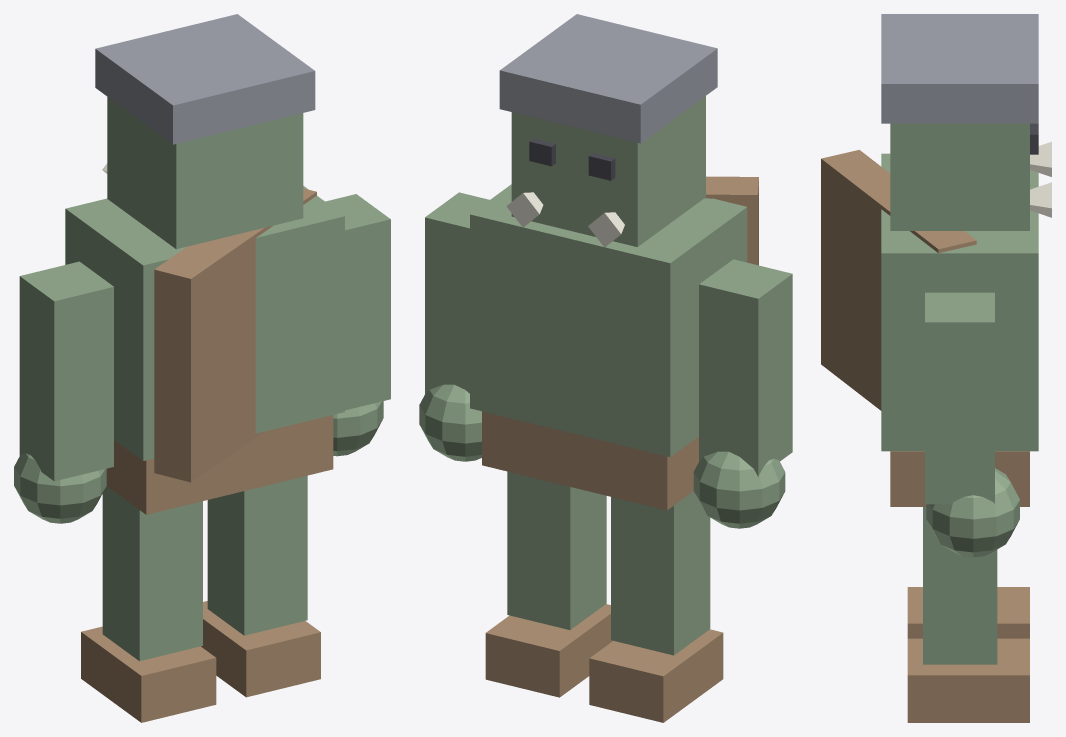
Rendered from mob_orc.glb.
3 renders of one model, left to right at view 1: azimuth 30°, elevation 25°; view 2: azimuth 150°, elevation 25°; view 3: azimuth 270°, elevation 25°, orthographic. The views are drawn at different scales.
Parts seen in each view (by area): view 1: mob_orc_05, mob_orc_06, mob_orc_11, mob_orc_16, mob_orc_07, mob_orc_02, mob_orc_03, mob_orc_04, mob_orc_08, mob_orc_00, mob_orc_01, mob_orc_09 (+1 smaller); view 2: mob_orc_05, mob_orc_16, mob_orc_07, mob_orc_11, mob_orc_02, mob_orc_03, mob_orc_04, mob_orc_08, mob_orc_00, mob_orc_01, mob_orc_09, mob_orc_10 (+5 smaller); view 3: mob_orc_05, mob_orc_16, mob_orc_06, mob_orc_11, mob_orc_08, mob_orc_03, mob_orc_01, mob_orc_10, mob_orc_04, mob_orc_00, mob_orc_15, mob_orc_14.
Boxes of the visible parts, bbox=[...] form: mob_orc_05: bbox=[65, 186, 344, 460]; mob_orc_06: bbox=[154, 188, 316, 482]; mob_orc_11: bbox=[107, 97, 303, 249]; mob_orc_16: bbox=[95, 14, 315, 144]; mob_orc_07: bbox=[19, 261, 113, 481]; mob_orc_02: bbox=[102, 486, 202, 661]; mob_orc_03: bbox=[207, 475, 307, 635]; mob_orc_04: bbox=[106, 415, 333, 514]; mob_orc_08: bbox=[325, 194, 390, 410]; mob_orc_00: bbox=[81, 626, 216, 722]; mob_orc_01: bbox=[201, 601, 320, 697]; mob_orc_09: bbox=[14, 453, 106, 523]; mob_orc_05: bbox=[470, 184, 747, 456]; mob_orc_16: bbox=[499, 14, 717, 143]; mob_orc_07: bbox=[699, 259, 792, 476]; mob_orc_11: bbox=[511, 96, 705, 246]; mob_orc_02: bbox=[611, 491, 710, 655]; mob_orc_03: bbox=[507, 471, 606, 629]; mob_orc_04: bbox=[482, 411, 698, 510]; mob_orc_08: bbox=[425, 192, 489, 395]; mob_orc_00: bbox=[589, 629, 723, 722]; mob_orc_01: bbox=[485, 604, 612, 697]; mob_orc_09: bbox=[693, 451, 785, 528]; mob_orc_10: bbox=[419, 384, 481, 461]; mob_orc_05: bbox=[881, 153, 1038, 451]; mob_orc_16: bbox=[881, 14, 1038, 123]; mob_orc_06: bbox=[821, 149, 976, 410]; mob_orc_11: bbox=[890, 123, 1029, 230]; mob_orc_08: bbox=[925, 292, 994, 504]; mob_orc_03: bbox=[923, 507, 997, 664]; mob_orc_01: bbox=[907, 638, 1029, 722]; mob_orc_10: bbox=[926, 468, 1019, 557]; mob_orc_04: bbox=[890, 451, 1029, 506]; mob_orc_00: bbox=[907, 587, 1029, 638]; mob_orc_15: bbox=[1030, 182, 1051, 217]; mob_orc_14: bbox=[1030, 141, 1051, 176].
Bounding box in the file's own units: 0.9545 × 1.59 × 0.5281.
